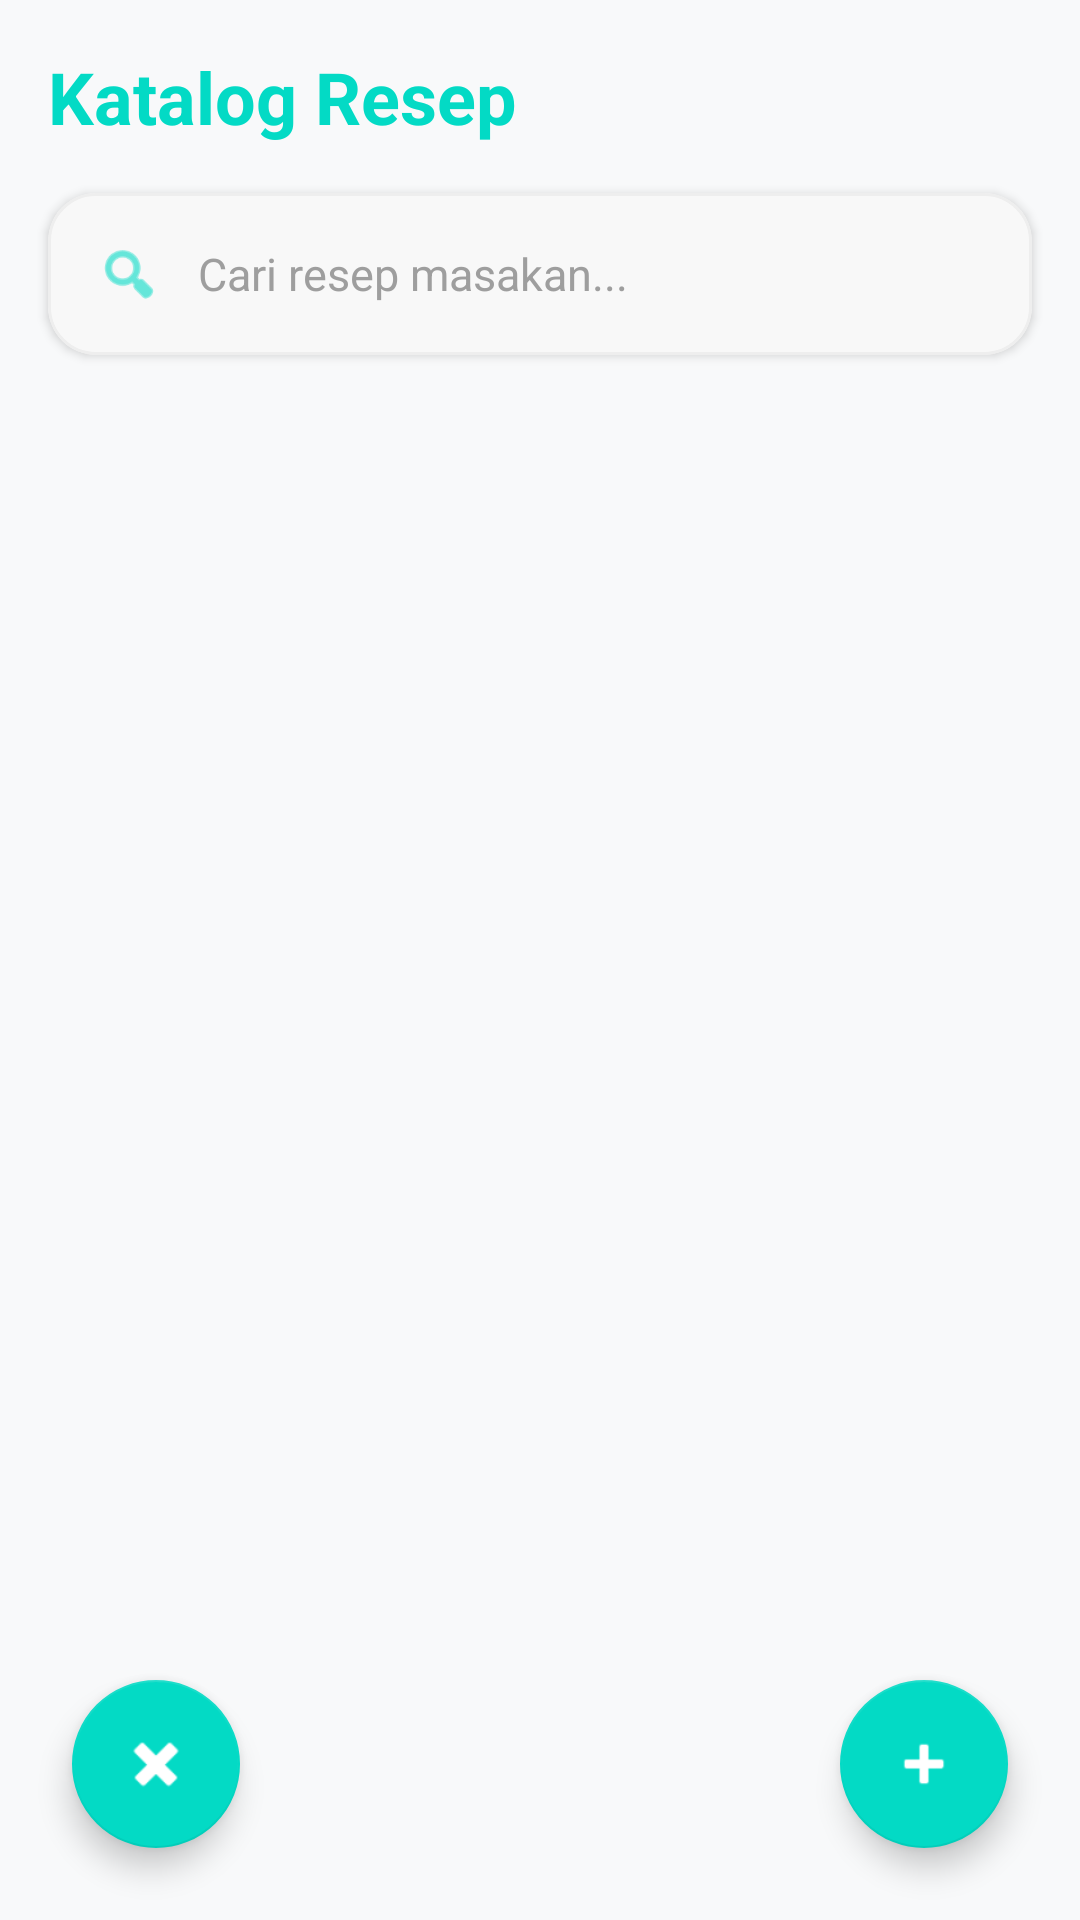

Locate icon controls on the screen. Image size 1080 x 1920, boxes as bbox=[x1, y1, x2, y2].
Delete Resep: bbox=[72, 1680, 240, 1848]
search: bbox=[105, 250, 153, 299]
Tambah Resep: bbox=[840, 1680, 1008, 1848]
